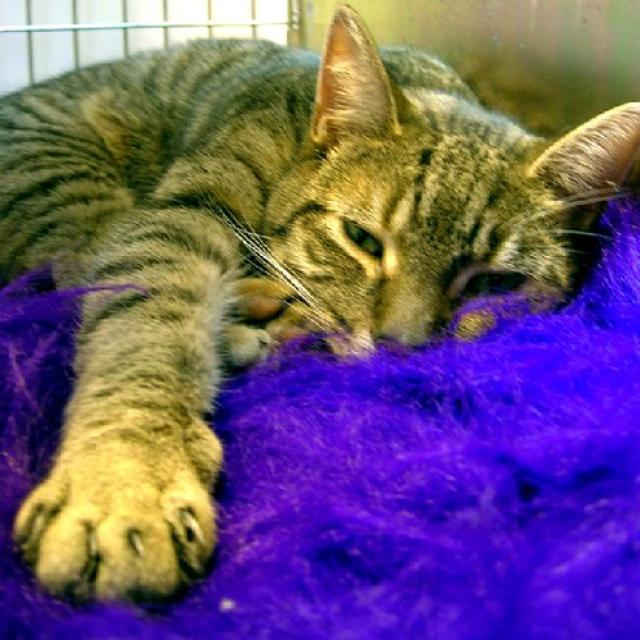cat: (1, 4, 637, 618)
